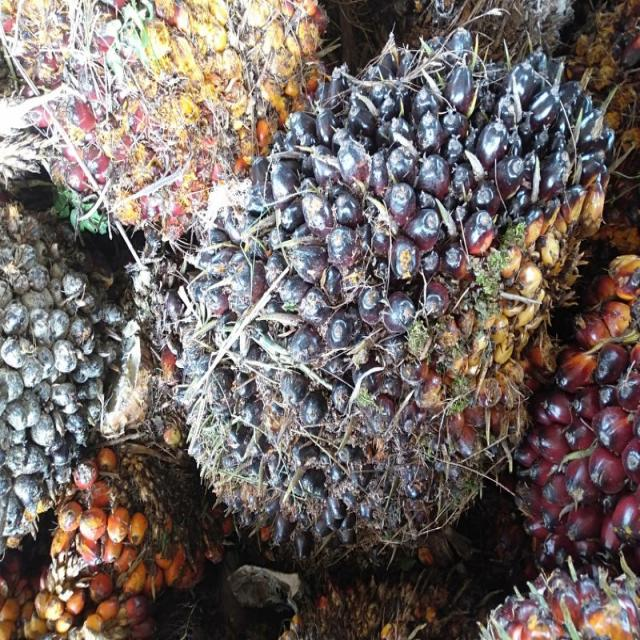fraksi 00: (163, 42, 605, 562)
